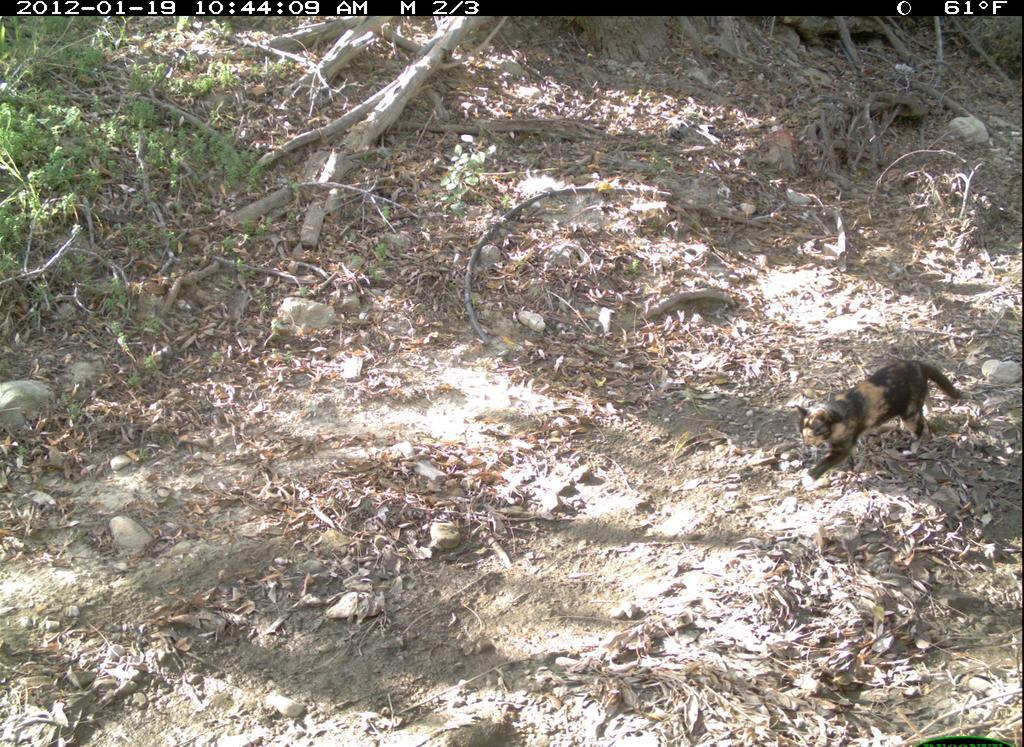cat: (788, 353, 969, 490)
